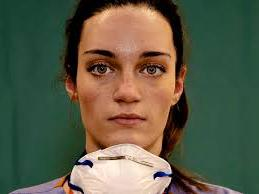mask_weared_incorrect: (79, 45, 172, 170)
